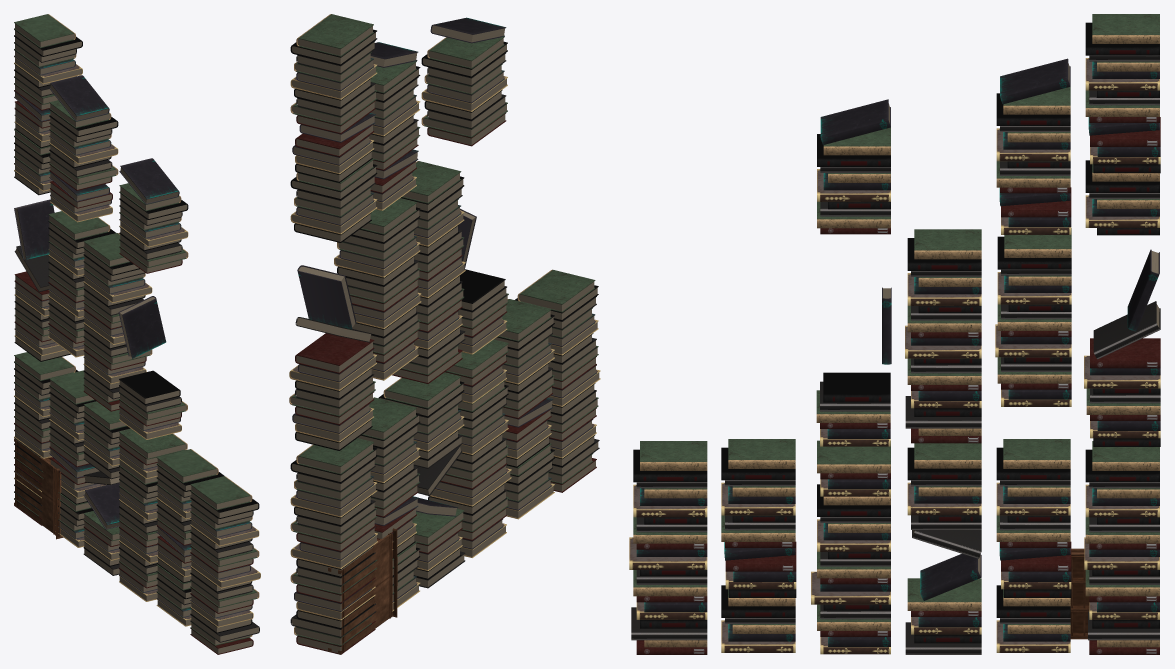
The model's file is wooden-book-shelf---low-poly---game-read-452049.glb.
The picture shows the model from 3 angles, left to right: view 1: azimuth 30°, elevation 25°; view 2: azimuth 150°, elevation 25°; view 3: azimuth 270°, elevation 25°; orthographic projection. The views are drawn at different scales.
Visible parts, largest first — view 1: PropMesh; view 2: PropMesh; view 3: PropMesh.
Boxes of the visible parts, x1,y1,x2,y2 form: PropMesh: [14, 14, 260, 654]; PropMesh: [289, 14, 600, 654]; PropMesh: [629, 14, 1160, 654].
Bounding box in the file's own units: 0.2195 × 2.2 × 1.7.
Materials: 2 (2 with a texture image).
